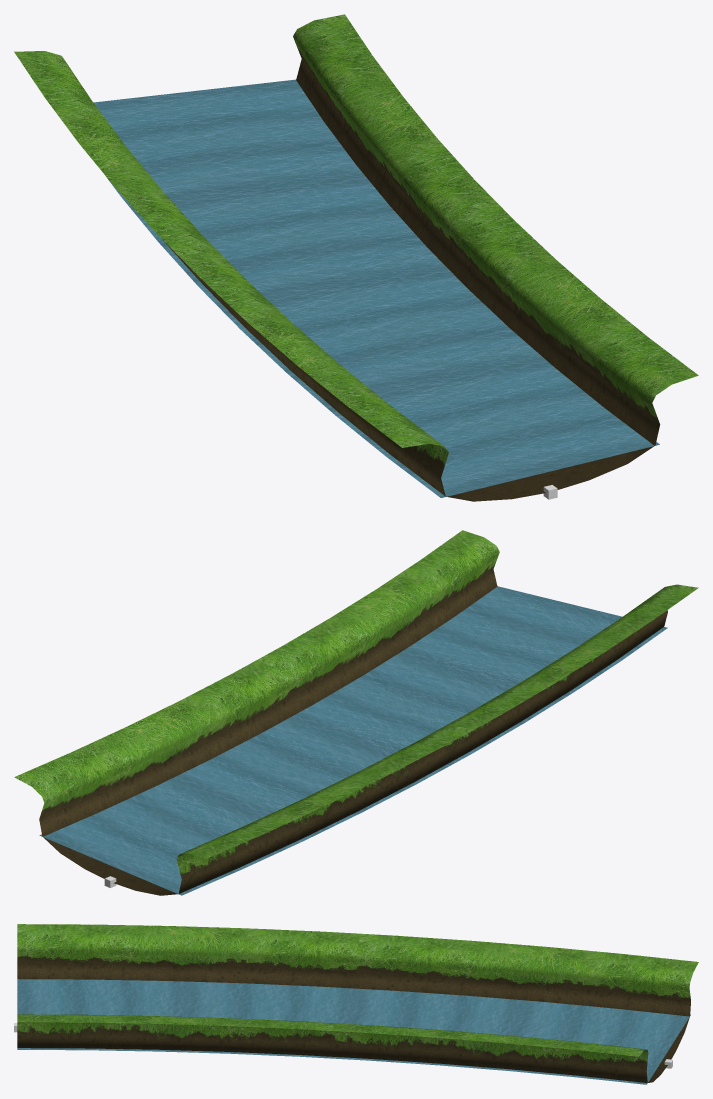
File: roadBend15.R.fbx
3 renders of one model, top to bottom at view 1: azimuth 30°, elevation 25°; view 2: azimuth 150°, elevation 25°; view 3: azimuth 270°, elevation 25°, orthographic. The views are drawn at different scales.
Visible parts, largest first — view 1: MESH roadBend15.R; view 2: MESH roadBend15.R; view 3: MESH roadBend15.R.
Part boxes in pixels (x1=…): MESH roadBend15.R: x1=14, y1=14, x2=698, y2=501; MESH roadBend15.R: x1=14, y1=530, x2=698, y2=895; MESH roadBend15.R: x1=17, y1=924, x2=698, y2=1084.
Size of what is drawn, in the model's own units: 2287 by 463 by 4989.
